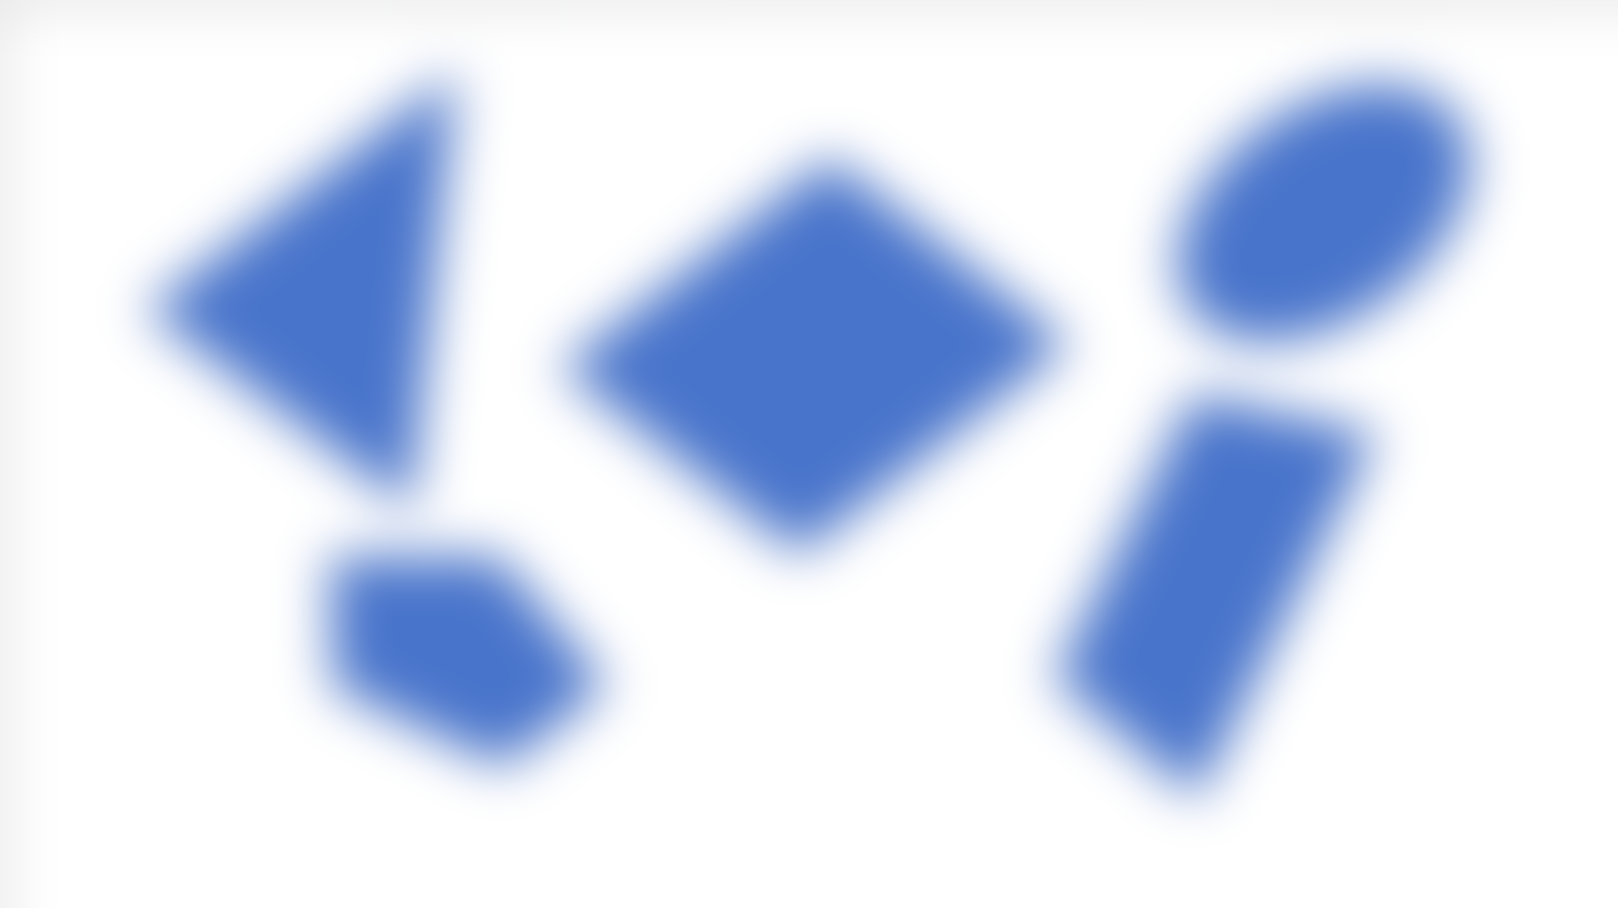circle: (1138, 64, 1498, 358)
parallelogram: (561, 164, 1085, 558)
pentagon: (307, 536, 608, 780)
trapezium: (1046, 383, 1396, 785)
triangle: (151, 54, 495, 491)
